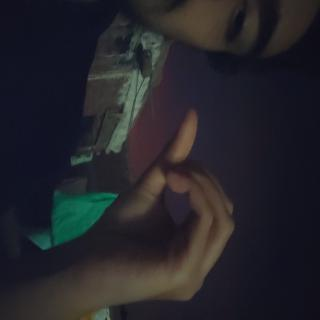WAW: (77, 105, 239, 320)
